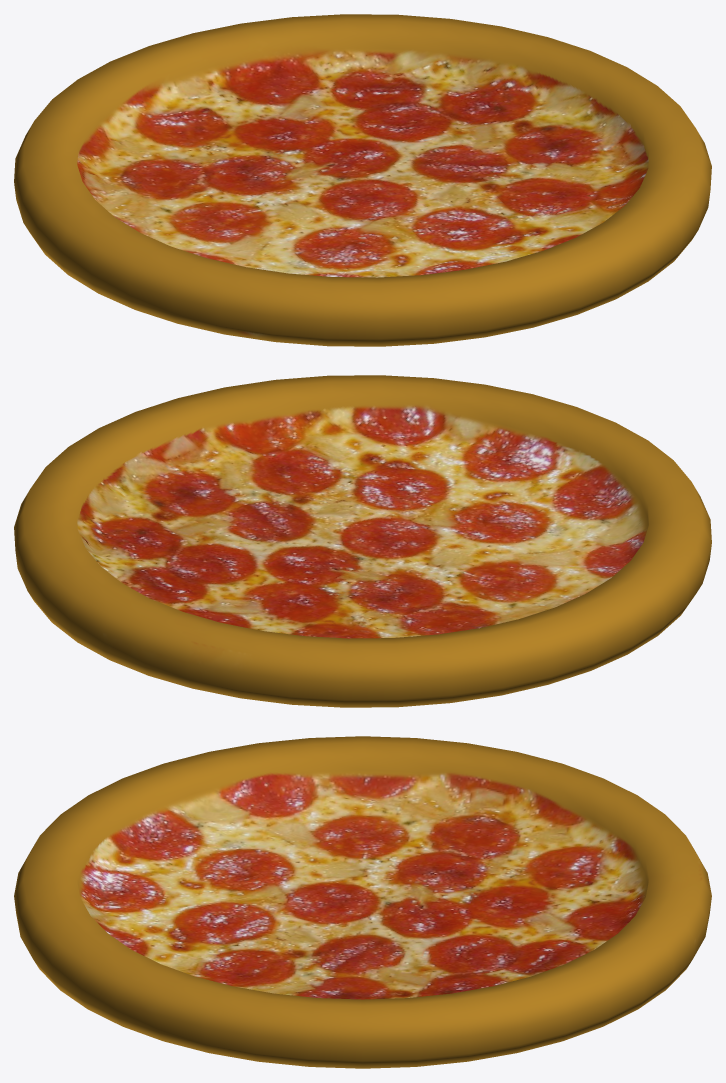
Rendered from pizza.obj.
The picture shows the model from 3 angles, top to bottom: view 1: azimuth 30°, elevation 25°; view 2: azimuth 150°, elevation 25°; view 3: azimuth 270°, elevation 25°; orthographic projection.
Parts seen in each view (by area): view 1: Pizza; view 2: Pizza; view 3: Pizza.
Boxes of the visible parts, left/top/right/bottom form: Pizza: left=14, top=14, right=711, bottom=346; Pizza: left=14, top=375, right=711, bottom=707; Pizza: left=14, top=736, right=711, bottom=1068.
Size of the model in its own units: 17.75 by 1.63 by 17.75.
Materials: 1 (1 with a texture image).
